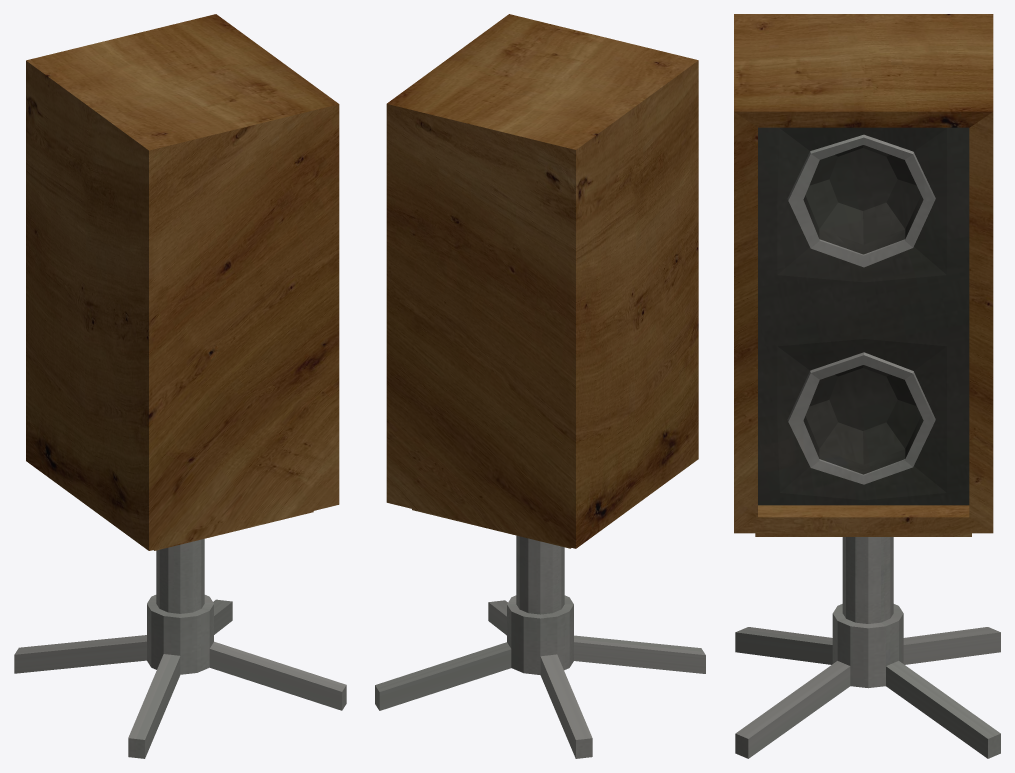
File: speaker_surfaced.fbx
The picture shows the model from 3 angles, left to right: view 1: azimuth 30°, elevation 25°; view 2: azimuth 150°, elevation 25°; view 3: azimuth 270°, elevation 25°; orthographic projection. The views are drawn at different scales.
Visible parts, largest first — view 1: pCube3, pCylinder1; view 2: pCube3, pCylinder1; view 3: pCube3, pCylinder1.
Boxes of the visible parts, left/top/right/bottom form: pCube3: left=26, top=14, right=339, bottom=550; pCylinder1: left=14, top=539, right=346, bottom=758; pCube3: left=386, top=14, right=698, bottom=548; pCylinder1: left=375, top=535, right=705, bottom=758; pCube3: left=734, top=14, right=993, bottom=536; pCylinder1: left=735, top=537, right=1000, bottom=758.
Size of the model in its own units: 28.43 by 75.6 by 28.58.
Materials: 3 (3 with a texture image).
